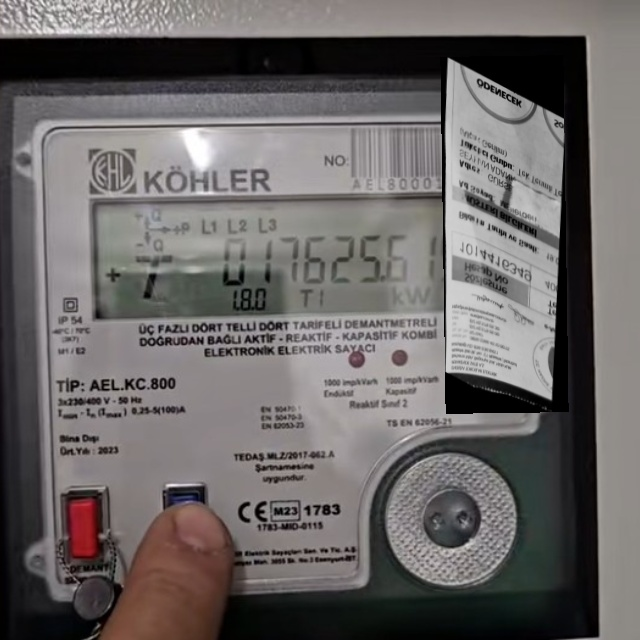electricity-bill: (439, 55, 569, 413)
